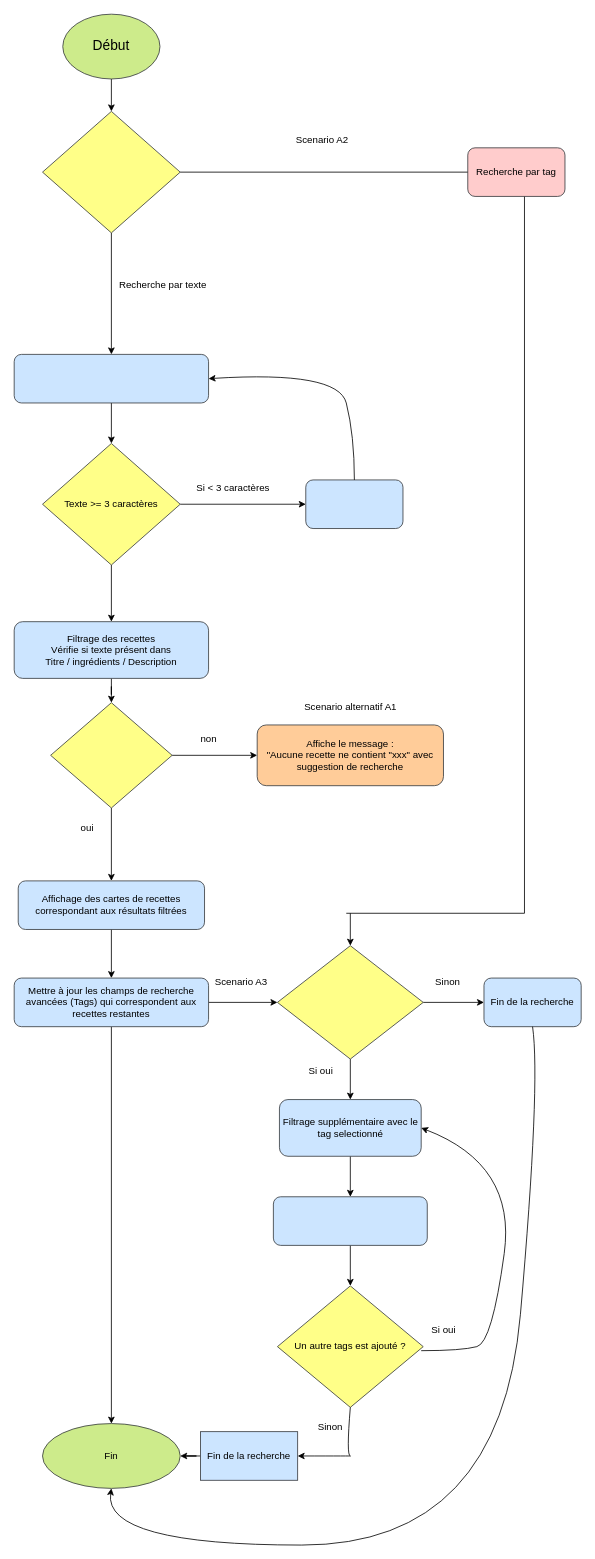
This 595x1559 diagram has some shape labels left out. The centre of each missing label's shape, as x and y in pixels:
"Correspondance trouvée" belongs at pixel 111 755.
"Fin de branche" belongs at pixel 354 504.
"L'utilisateur ajoute t il un tag ?" belongs at pixel 350 1002.
"Mets à jour l'affichage des recettes et des champs de tags" belongs at pixel 350 1220.
"Recherche initiée par l'utilisateur" belongs at pixel 111 172.
"Saisie dans la barre de recherche" belongs at pixel 111 378.
